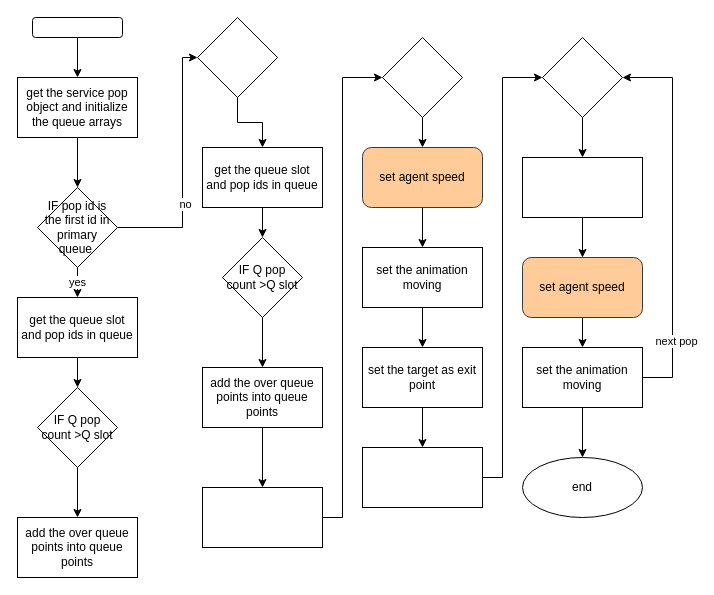
This 714x595 diagram has some shape labels left out. Each missing label, with the centre of its shape:
"ELSE IF pop id is the first id in 2 queue" goes at point (237, 57).
"FOR queue pop" goes at point (582, 77).
"get the index of the agent id and get the next slot point" goes at point (262, 517).
"IF id in queue" goes at point (422, 77).
"remove the id into queue array" goes at point (422, 477).
"set the food queue assinged and set target queue points" goes at point (582, 187).
"start" goes at point (77, 27).
